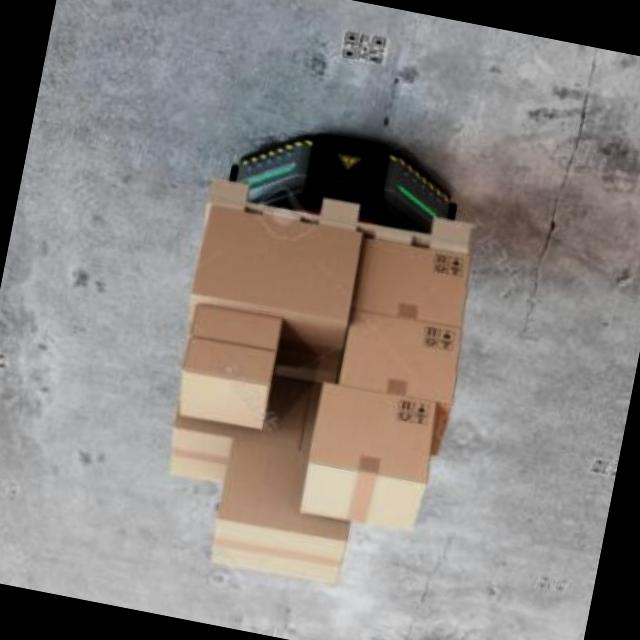box: (280, 370, 466, 551), (194, 426, 380, 602), (170, 195, 364, 362), (322, 307, 481, 438), (163, 298, 301, 436), (339, 222, 488, 346), (155, 396, 238, 488)
